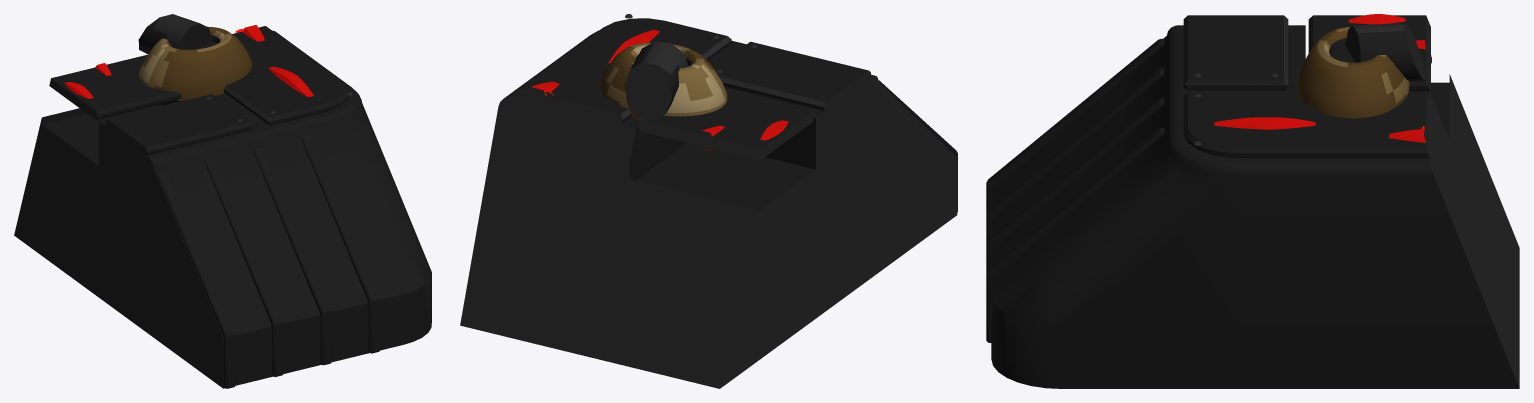
The model's file is asteroid_rig_br_wreck.glb.
3 views of the same model, side by side, from view 1: azimuth 30°, elevation 25°; view 2: azimuth 150°, elevation 25°; view 3: azimuth 270°, elevation 25° (orthographic). The views are drawn at different scales.
Parts seen in each view (by area): view 1: asteroid_rig_br_wreck; view 2: asteroid_rig_br_wreck; view 3: asteroid_rig_br_wreck.
Part boxes in pixels (x1,y1,x2,y2): asteroid_rig_br_wreck: (14, 14, 431, 388); asteroid_rig_br_wreck: (460, 14, 957, 388); asteroid_rig_br_wreck: (986, 14, 1519, 388).
Size of the model in its own units: 19 by 18.21 by 30.38.
